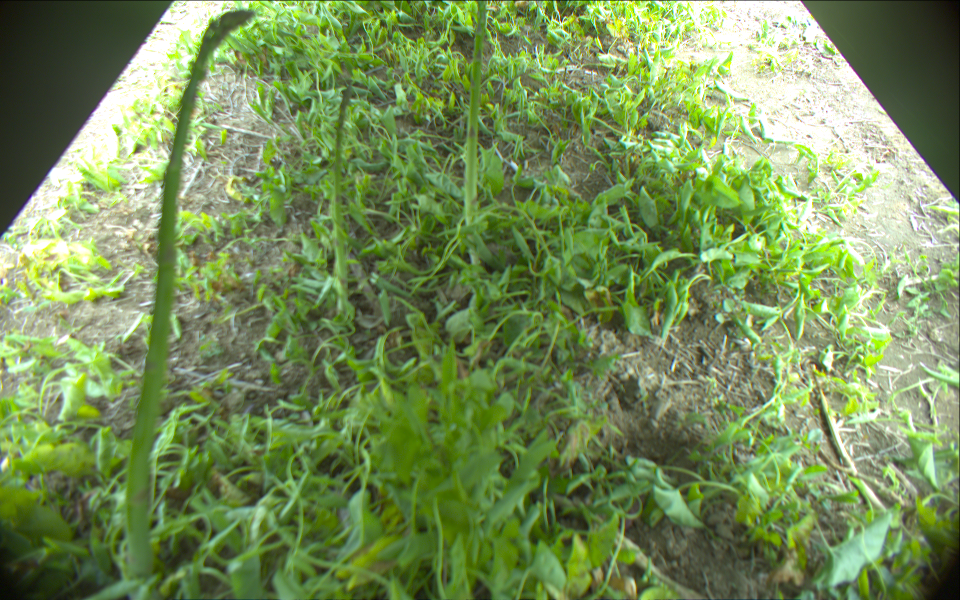aspa: (122, 8, 257, 579), (466, 1, 488, 230), (334, 79, 354, 319)
